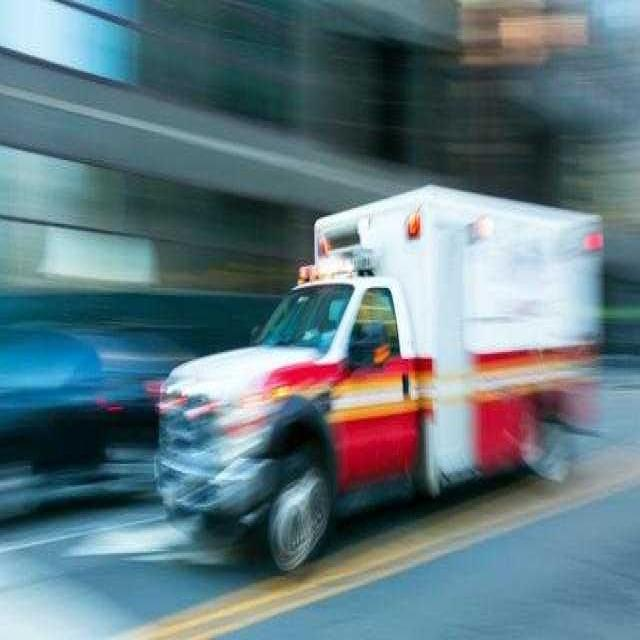emergency-vehicle: (257, 178, 477, 514)
